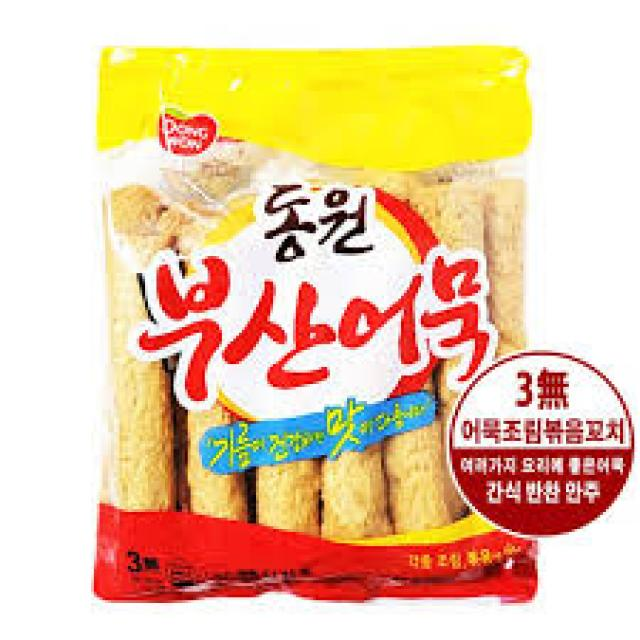fish_cake: (88, 37, 532, 603)
